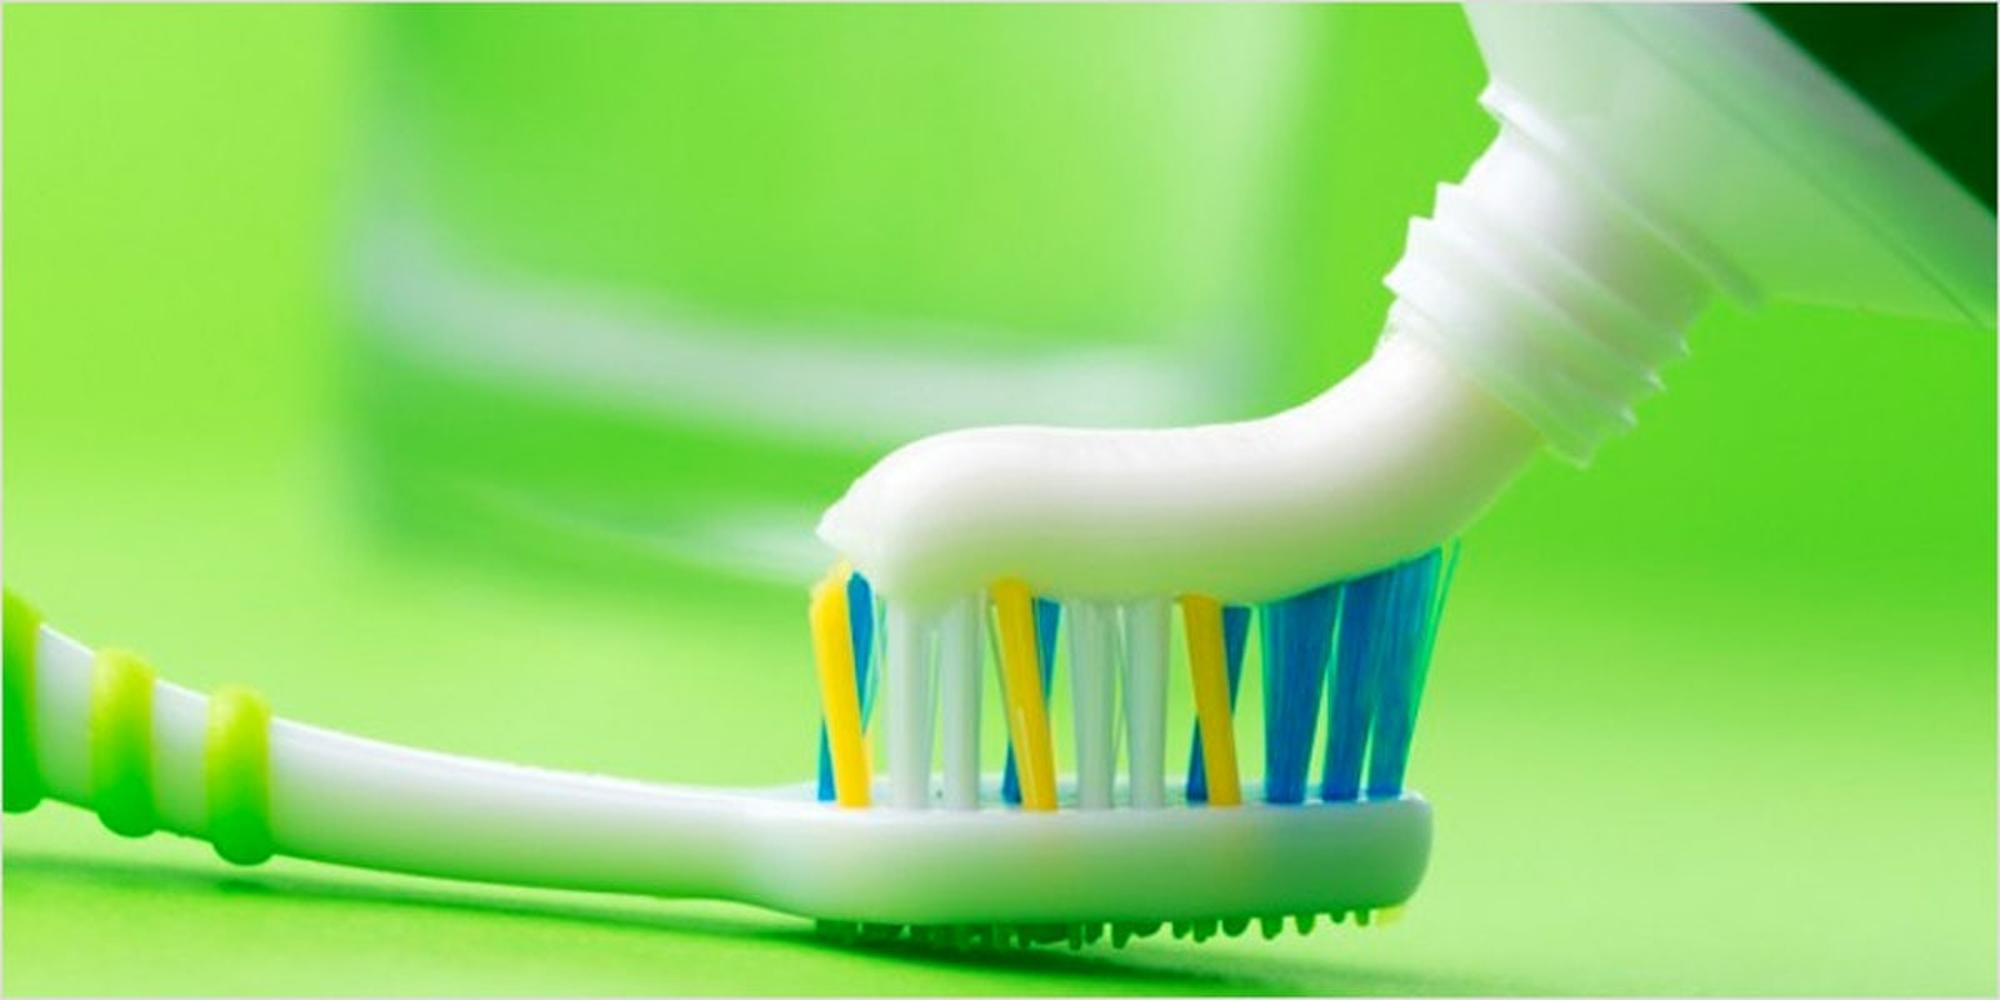toothpaste: (1362, 0, 2000, 492)
